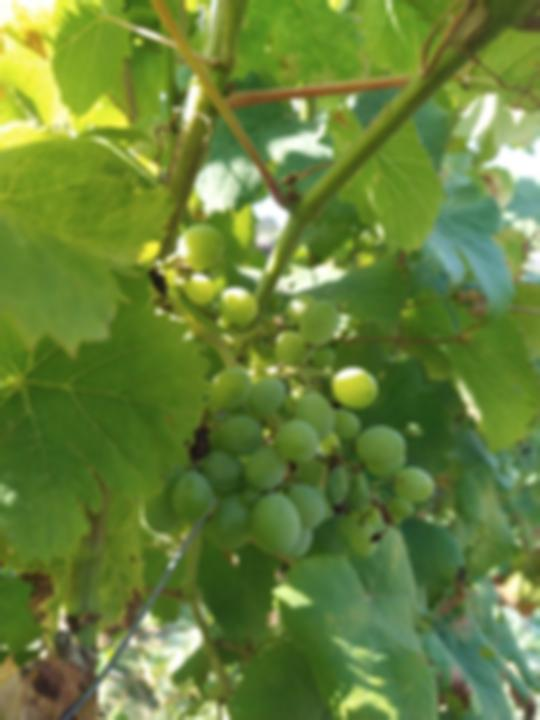grape: (140, 219, 437, 564)
